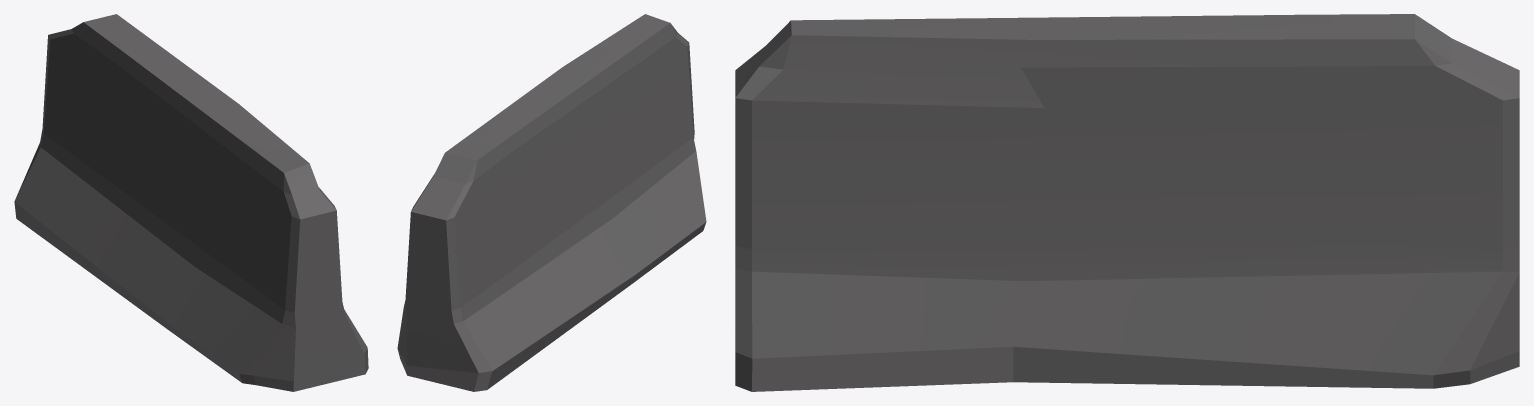
File: SM_Prop_Barrier_Concrete_Bare_02.obj
The picture shows the model from 3 angles, left to right: view 1: azimuth 30°, elevation 25°; view 2: azimuth 150°, elevation 25°; view 3: azimuth 270°, elevation 25°; orthographic projection. The views are drawn at different scales.
Parts seen in each view (by area): view 1: SM_Prop_Barrier_Concrete_Bare_02_0; view 2: SM_Prop_Barrier_Concrete_Bare_02_0; view 3: SM_Prop_Barrier_Concrete_Bare_02_0.
Boxes of the visible parts, <box> form: SM_Prop_Barrier_Concrete_Bare_02_0: <box>14,14,368,391</box>; SM_Prop_Barrier_Concrete_Bare_02_0: <box>397,14,706,391</box>; SM_Prop_Barrier_Concrete_Bare_02_0: <box>735,14,1519,391</box>.
Bounding box in the file's own units: 0.5217 × 0.905 × 1.99.
1 material, 1 textured.
